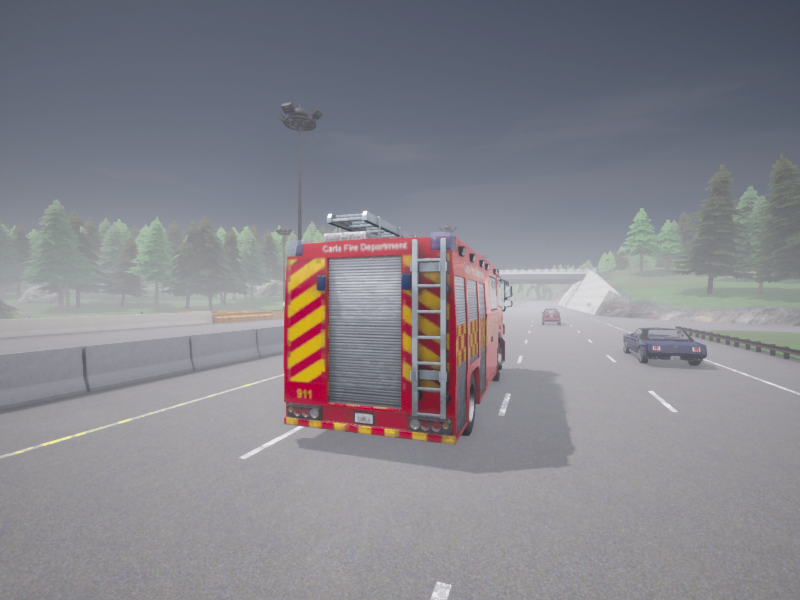vehicle: (284, 211, 512, 444), (623, 327, 706, 365), (541, 309, 560, 324)
